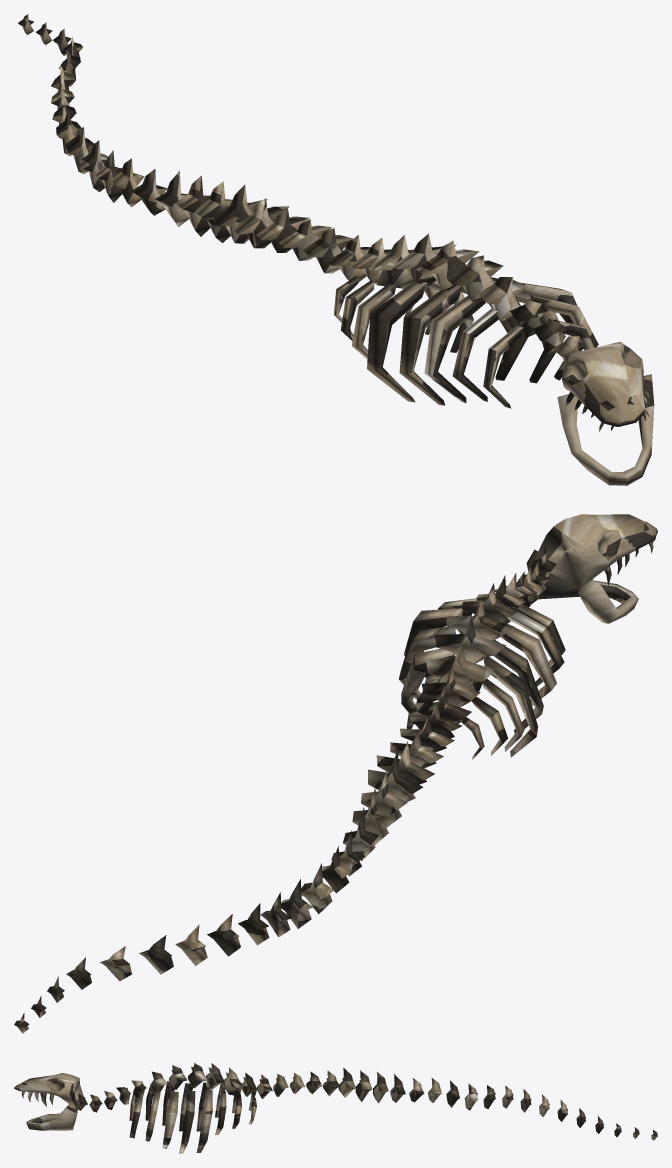
The model's file is sea_fbx_skelleton2.fbx.
3 renders of one model, top to bottom at view 1: azimuth 30°, elevation 25°; view 2: azimuth 150°, elevation 25°; view 3: azimuth 270°, elevation 25°, orthographic. The views are drawn at different scales.
Parts seen in each view (by area): view 1: polySurface1; view 2: polySurface1; view 3: polySurface1.
Part boxes in pixels (box(x1,y1,x2,y2)): polySurface1: box(18, 14, 654, 485); polySurface1: box(14, 514, 657, 1033); polySurface1: box(14, 1062, 657, 1153).
Size of the model in its own units: 16.98 by 12.35 by 91.91.
